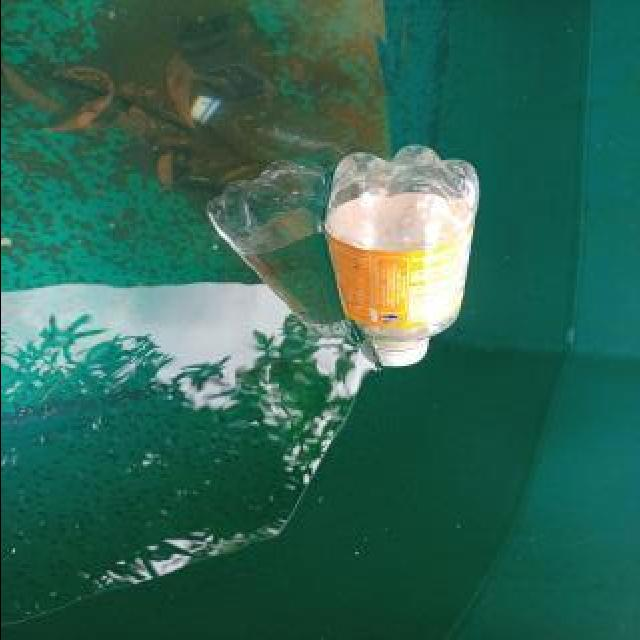Bottle: (316, 136, 488, 374)
